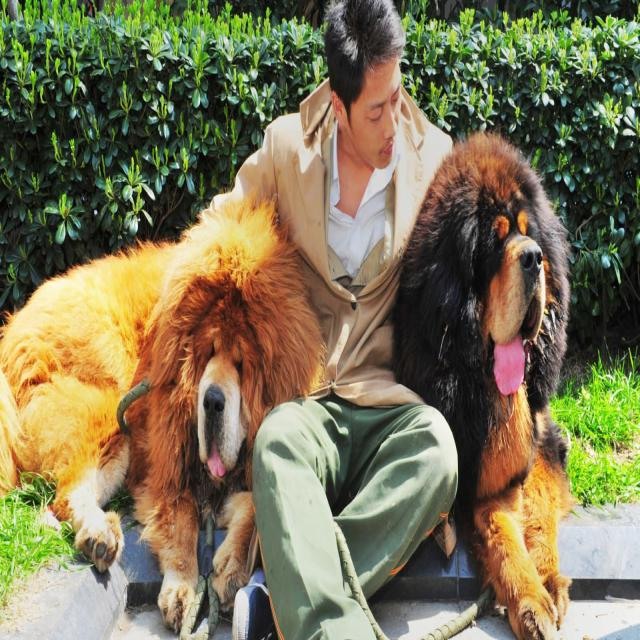Dog: (409, 132, 597, 417), (142, 221, 306, 512)
